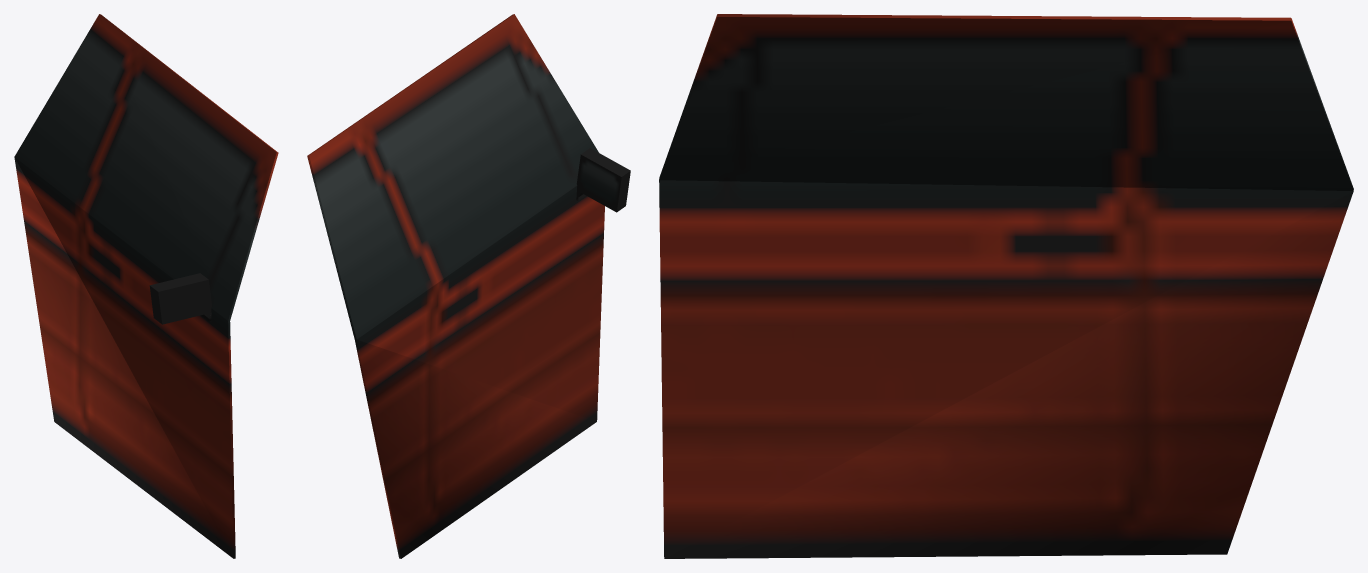
File: car_cricket_red_door_FR.obj
3 views of the same model, side by side, from view 1: azimuth 30°, elevation 25°; view 2: azimuth 150°, elevation 25°; view 3: azimuth 270°, elevation 25° (orthographic). The views are drawn at different scales.
Parts seen in each view (by area): view 1: Car3.001; view 2: Car3.001; view 3: Car3.001.
Part boxes in pixels (<box>): Car3.001: <box>14,14,278,558</box>; Car3.001: <box>307,14,630,558</box>; Car3.001: <box>659,14,1353,558</box>.
Size of the model in its own units: 0.6 by 1.78 by 1.89.
